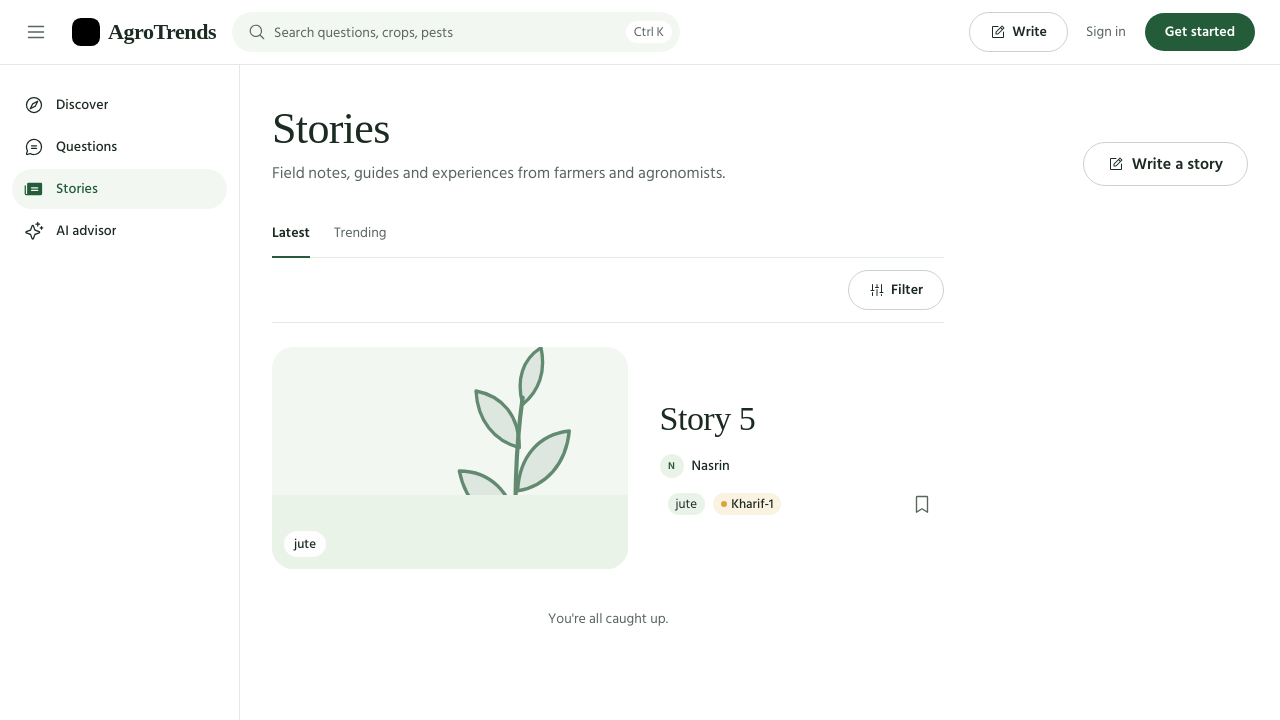
Test case: crop and season chips on a story are filters
Click the link with aria-label "Stories about jute" at {"x": 686, "y": 504}, box [668, 493, 705, 515]
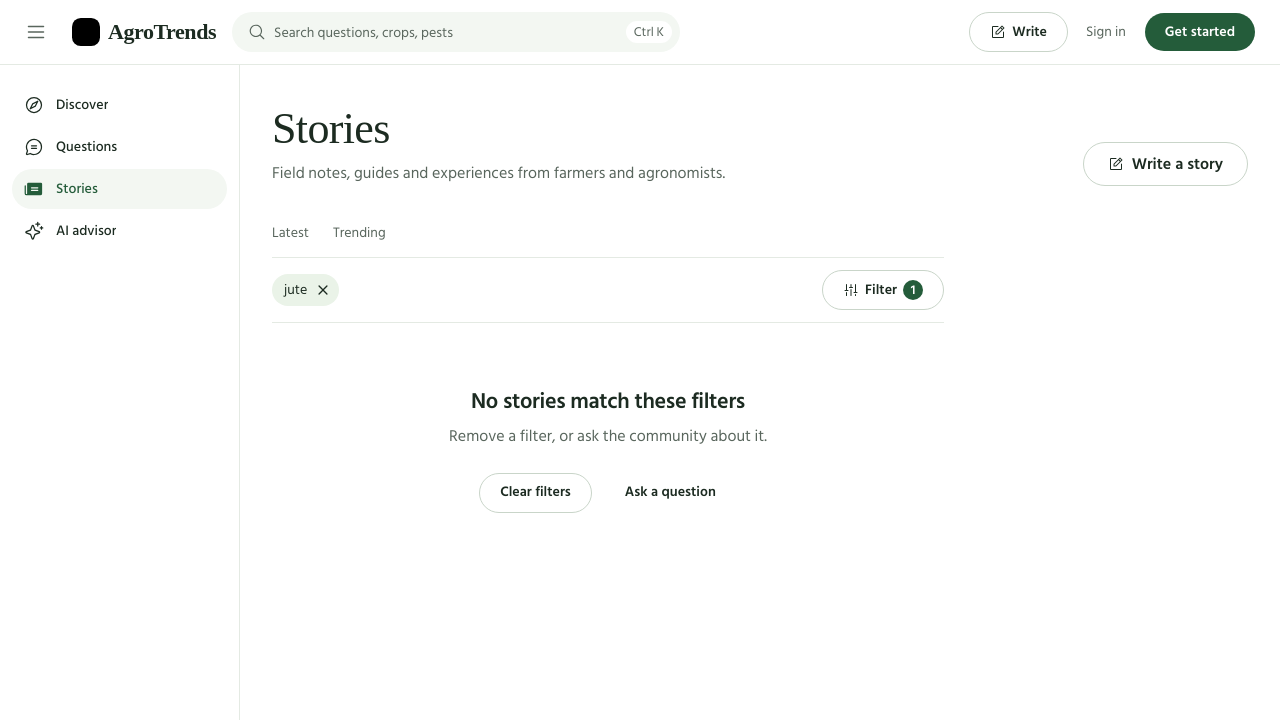
expect the heading "No stories match these filters" is shown: met, box [471, 383, 745, 419]
